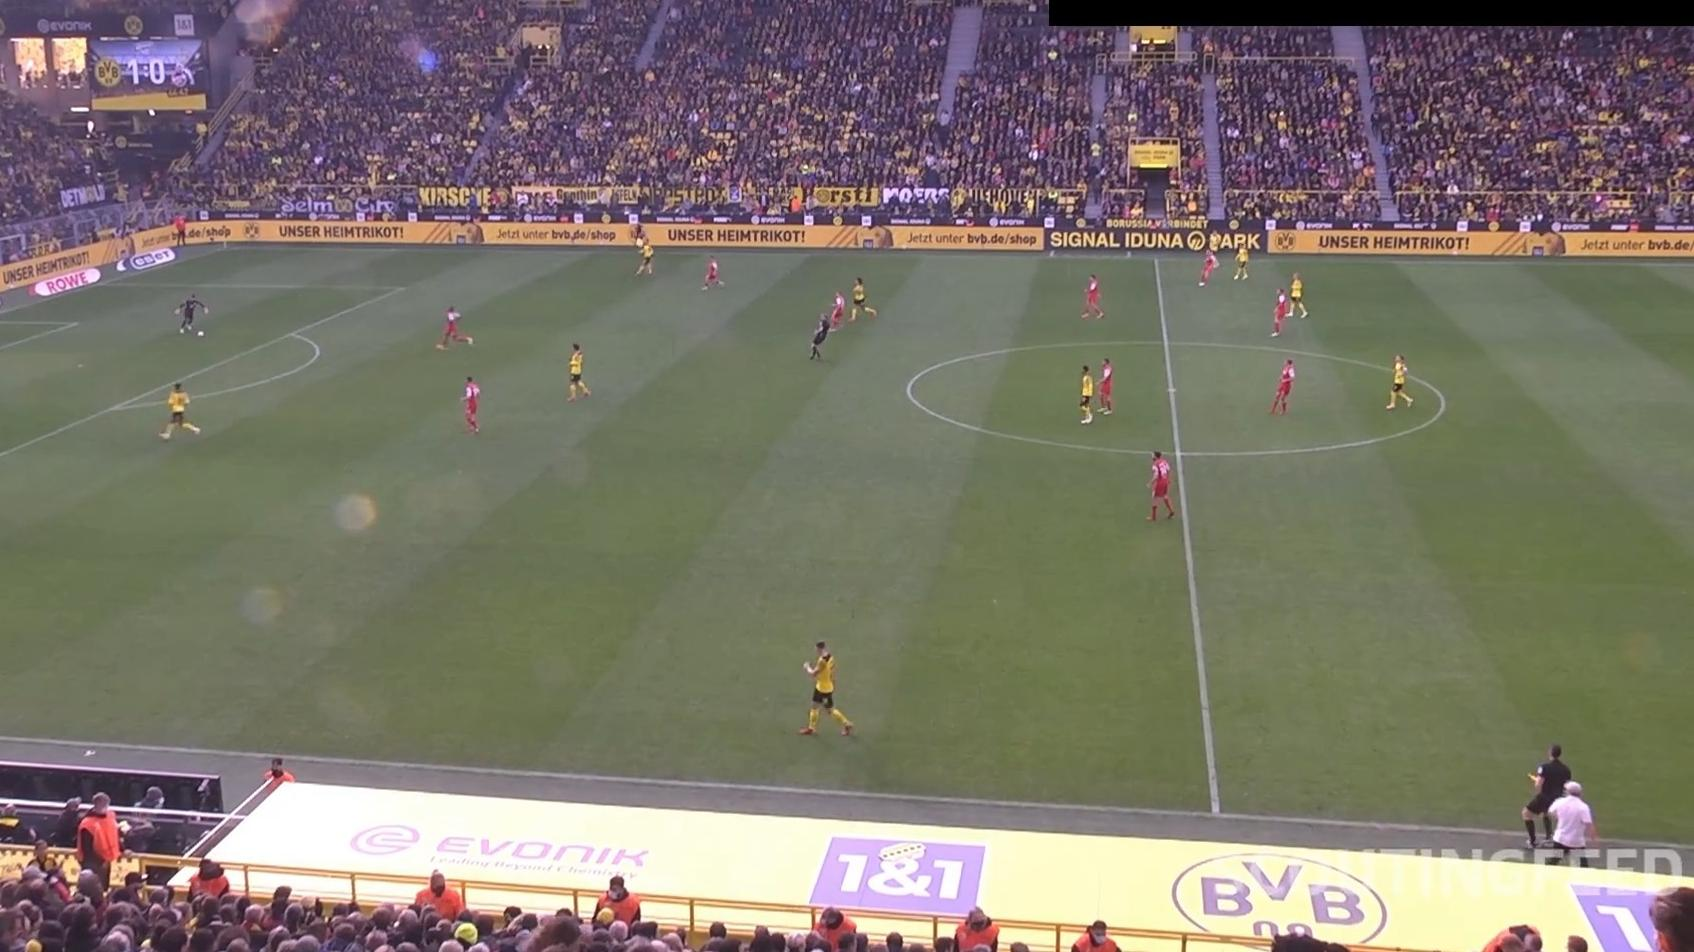ball: (197, 329, 206, 339)
